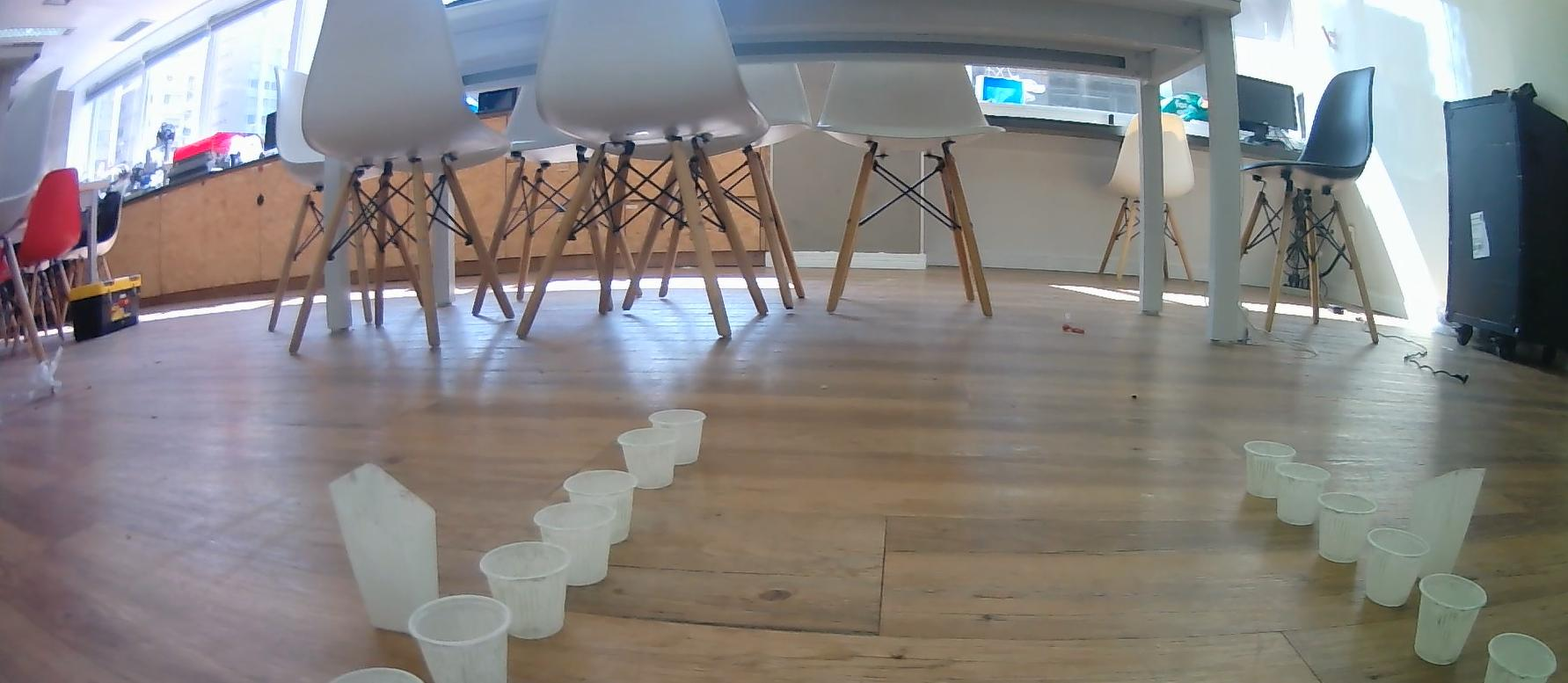erva_daninha: (329, 462, 441, 636), (1413, 468, 1486, 576)
planta: (407, 594, 512, 683), (478, 541, 571, 641), (533, 502, 617, 587), (1413, 572, 1488, 666), (563, 469, 638, 546), (1360, 527, 1432, 607), (1316, 490, 1377, 564), (616, 427, 681, 490), (1485, 632, 1561, 683), (1277, 462, 1330, 526), (649, 408, 707, 466), (1244, 440, 1296, 500), (328, 666, 423, 683)
